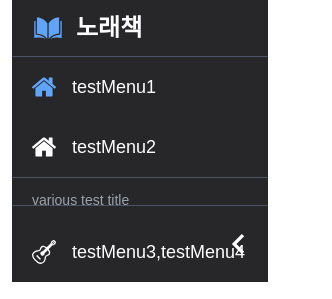
Test: SideBar component test › check sidebar to be miniMode when click toggle btn
Check: the text "노래책" is shown, box [76,12,142,44]
Step 1. Click the button with test id "toggleBtn" → (140,244), box [12,205,268,282]
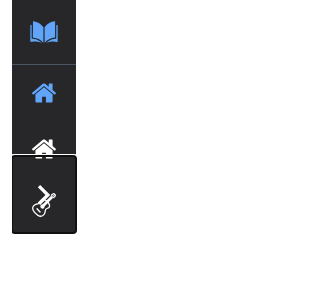
Check: the text "노래책" is gone
